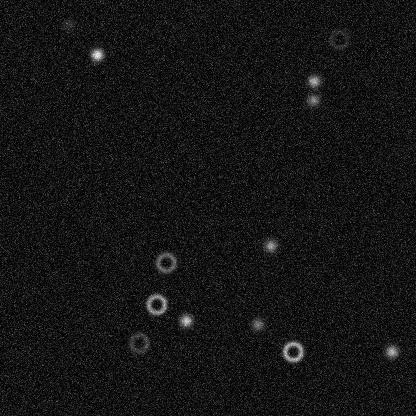Ring: (144, 292, 168, 316), (280, 339, 304, 363), (327, 27, 351, 51), (153, 250, 177, 274), (126, 330, 150, 354)
Spot: (60, 16, 76, 32), (177, 312, 193, 328), (305, 92, 321, 108), (89, 46, 105, 62), (262, 237, 278, 253), (383, 343, 399, 359), (305, 73, 321, 89), (249, 316, 265, 332)
